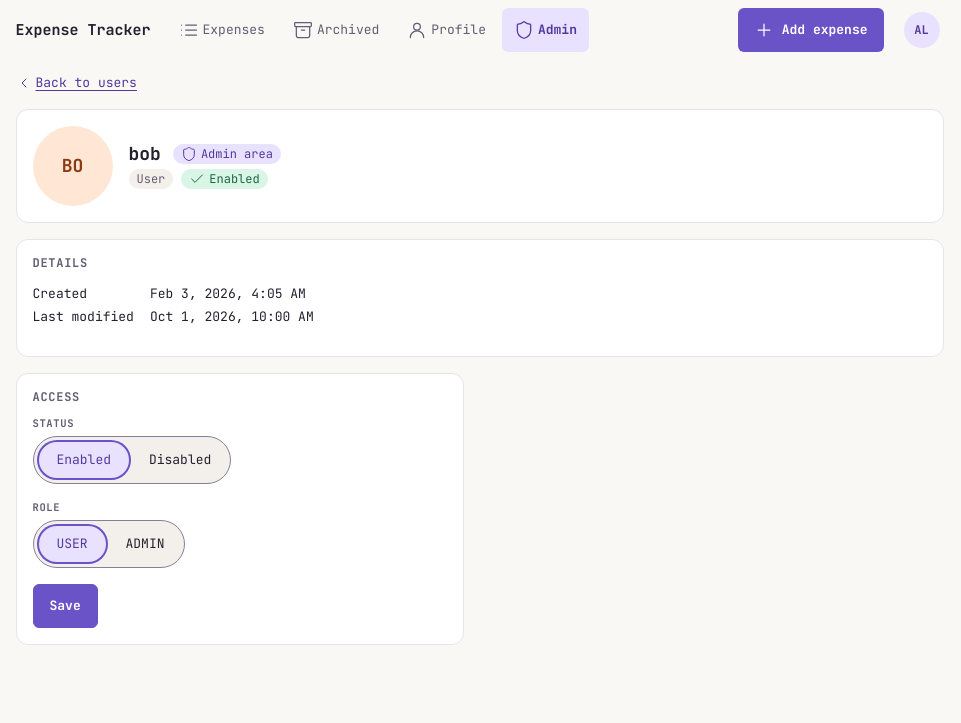
Test: edit user › saves only what changed with the version and shows the new version
Check: the heading "bob" is shown, box [128, 144, 161, 165]
A promotion is not destructive, so it saves without a confirm
Click the radio button labelled "ADMIN": {"x": 145, "y": 543} [126, 535, 164, 552]
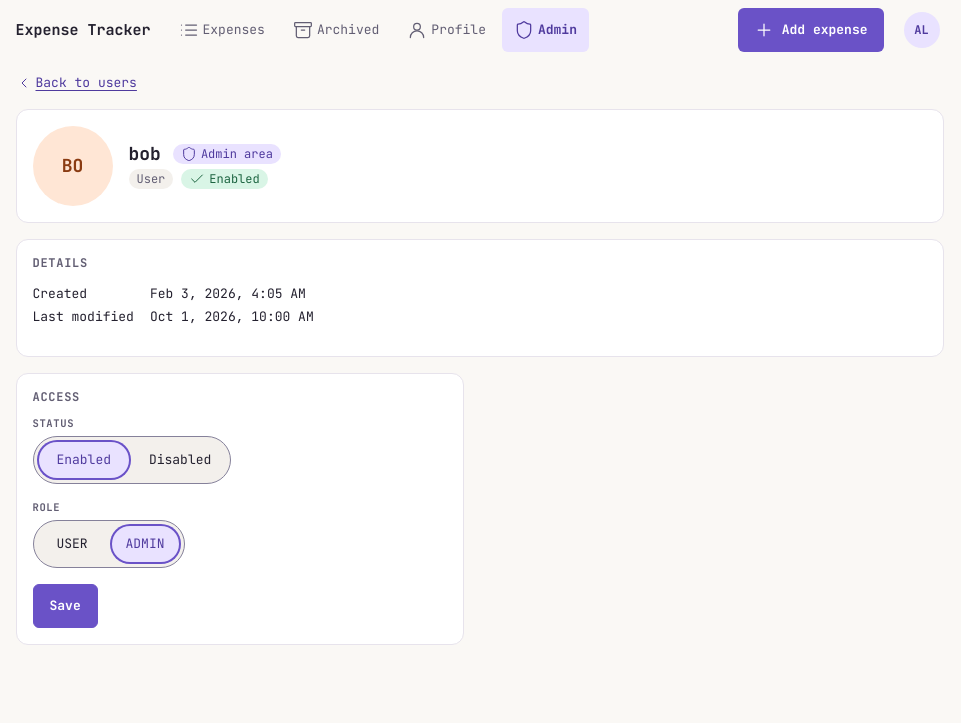
Click the button "Save": {"x": 65, "y": 606} [32, 584, 98, 628]
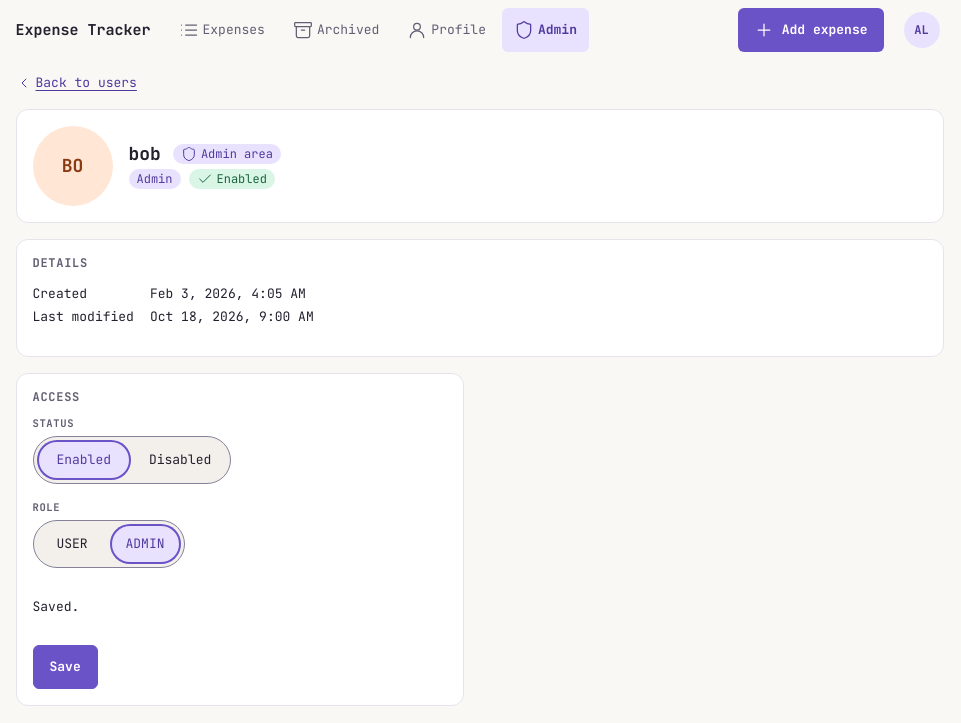
Check: the radio button labelled "ADMIN" is checked, box [110, 524, 180, 564]
Check: the text "Saved." is shown, box [32, 598, 79, 614]
